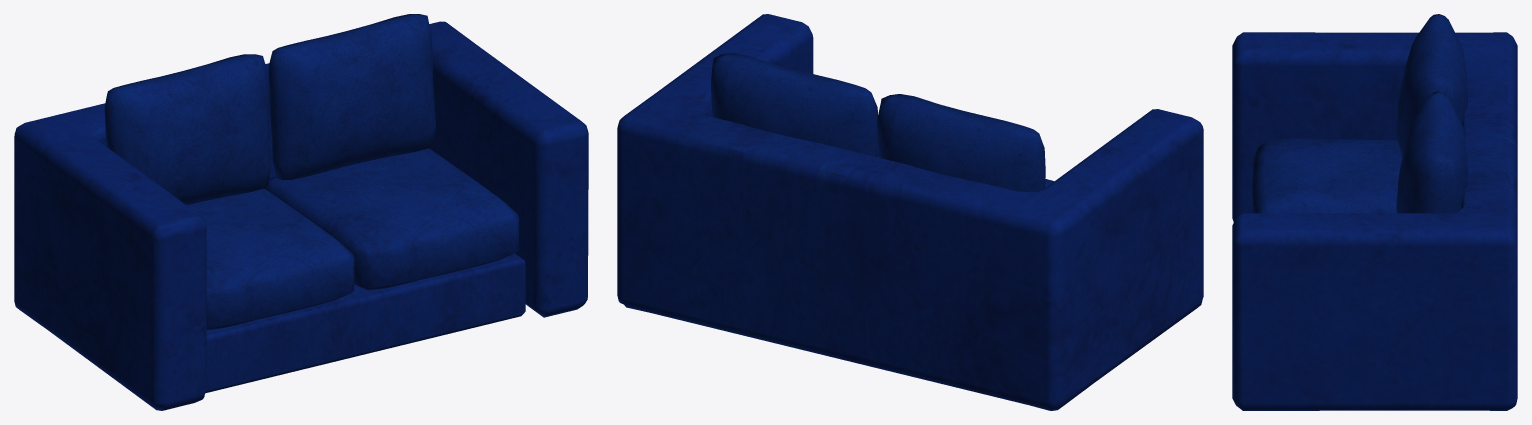
Rendered from Blue sofa.fbx.
3 views of the same model, side by side, from view 1: azimuth 30°, elevation 25°; view 2: azimuth 150°, elevation 25°; view 3: azimuth 270°, elevation 25° (orthographic). The views are drawn at different scales.
Parts seen in each view (by area): view 1: Blue_Sofa; view 2: Blue_Sofa; view 3: Blue_Sofa.
Boxes of the visible parts, <box> form: Blue_Sofa: <box>14,14,588,410</box>; Blue_Sofa: <box>617,14,1203,410</box>; Blue_Sofa: <box>1232,14,1517,410</box>.
Size of the model in its own units: 188 by 96.69 by 110.
Materials: 1 (1 with a texture image).
